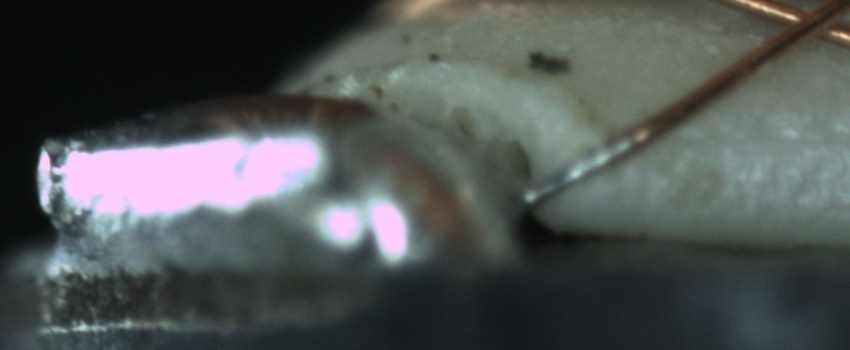CL: (758, 3, 847, 53)
DL: (678, 108, 849, 170)
TS: (525, 132, 635, 207)
